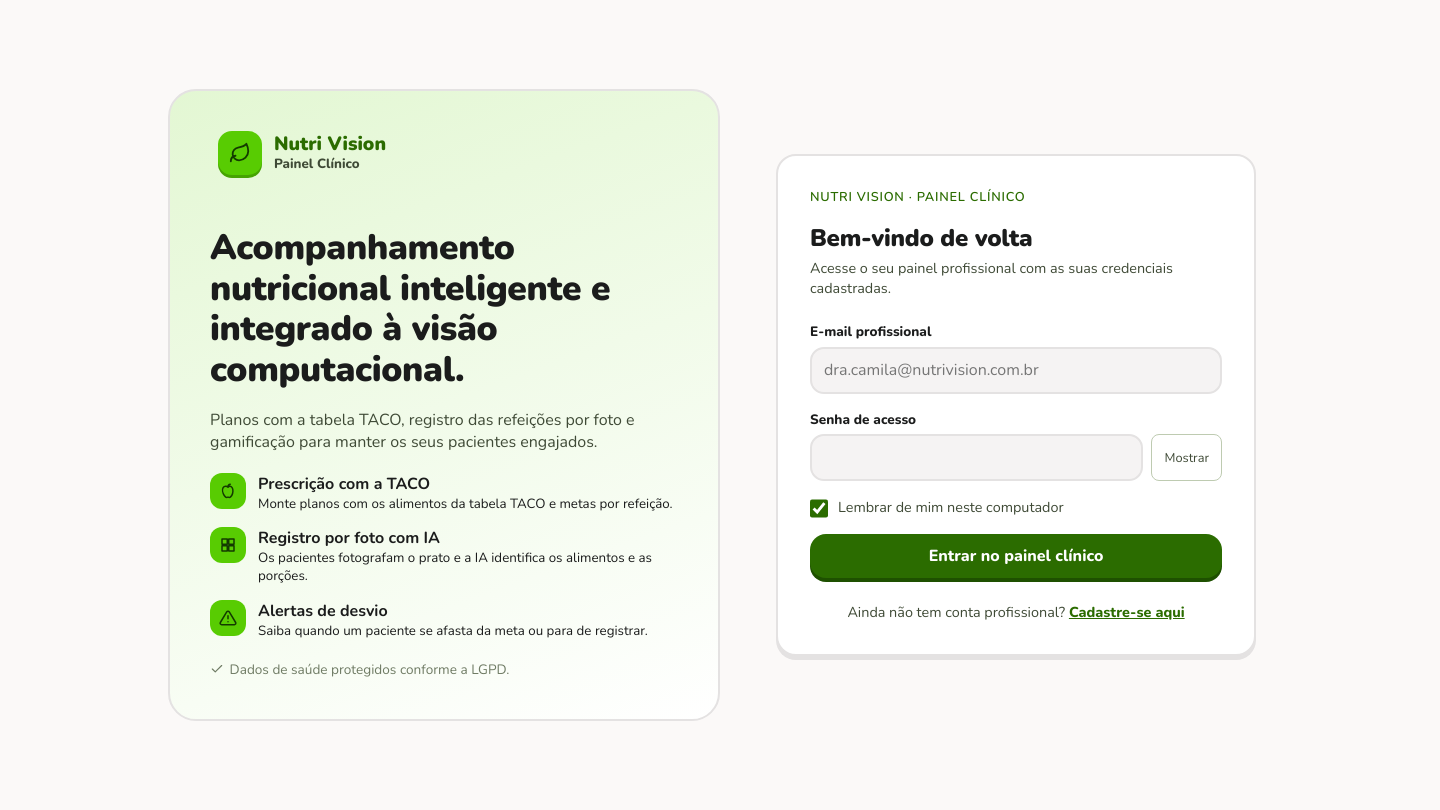
Test: App › Sair volta ao login e apaga o token
Type "ana@exemplo.com" into the field labelled "E-mail profissional" at coordinates (1016, 370), box [810,347,1222,394]
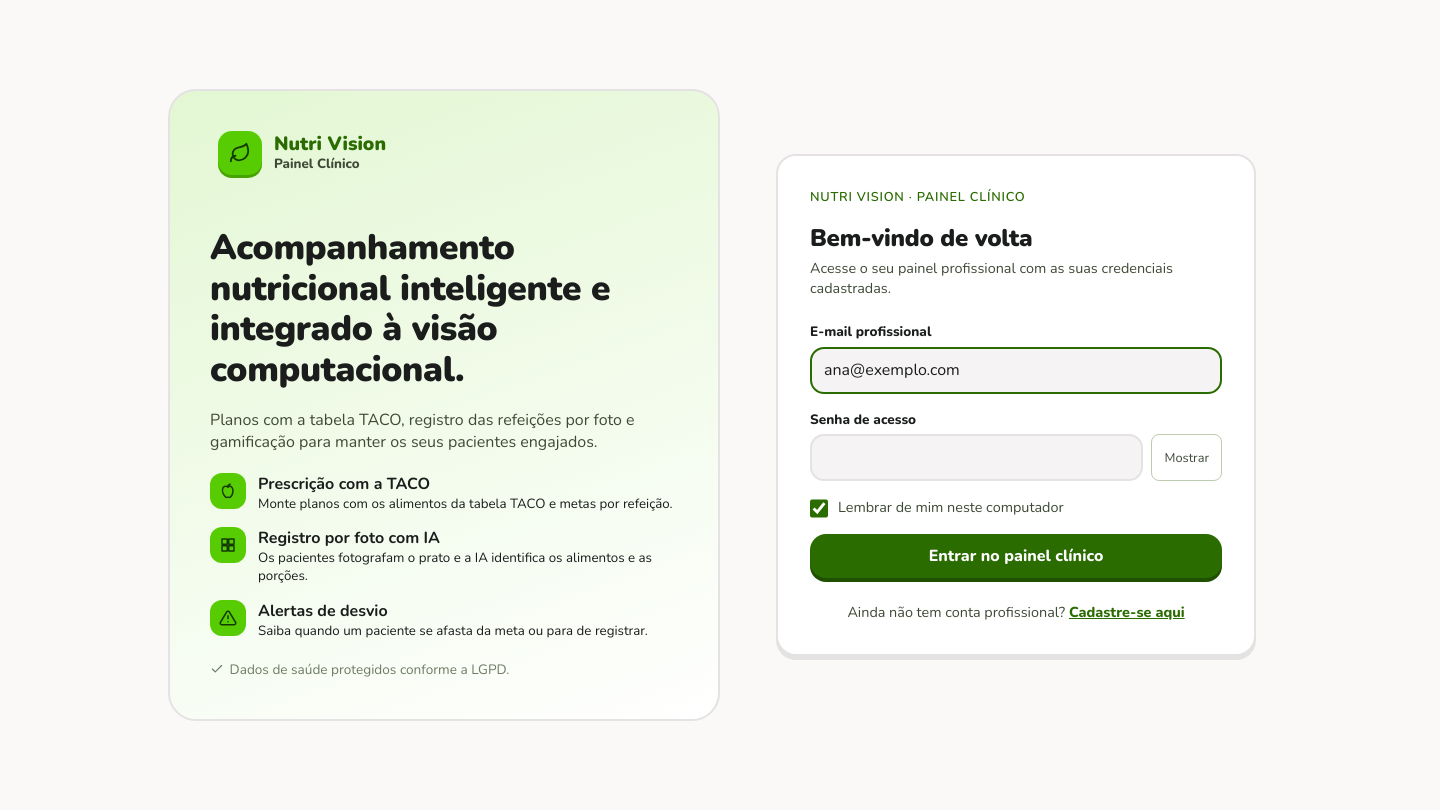
Type "senha-forte-123" into the password field labelled "Senha de acesso" at coordinates (977, 458), box [810,434,1144,481]
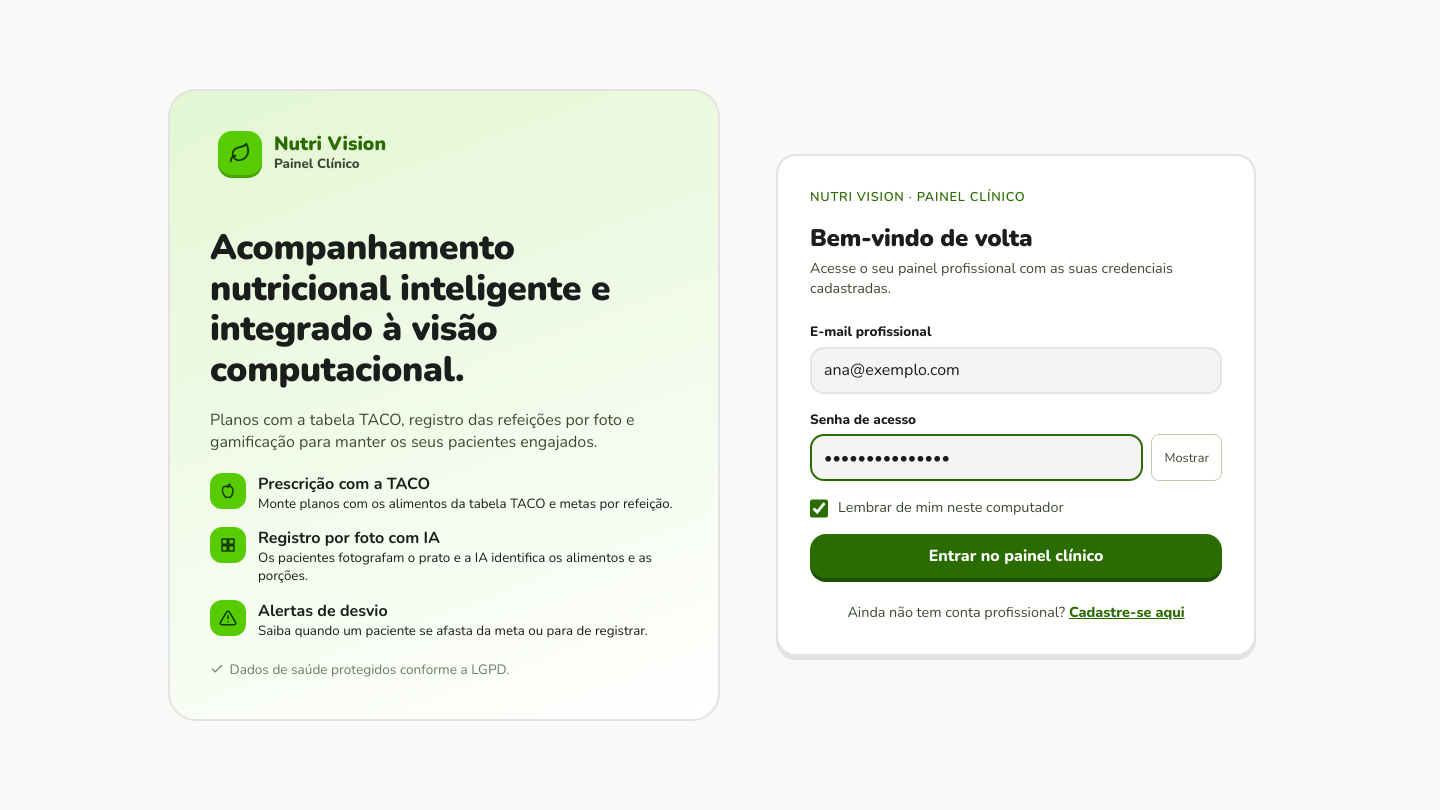
Click the button "Entrar no painel clínico" at coordinates (1016, 556), box [810,534,1222,578]
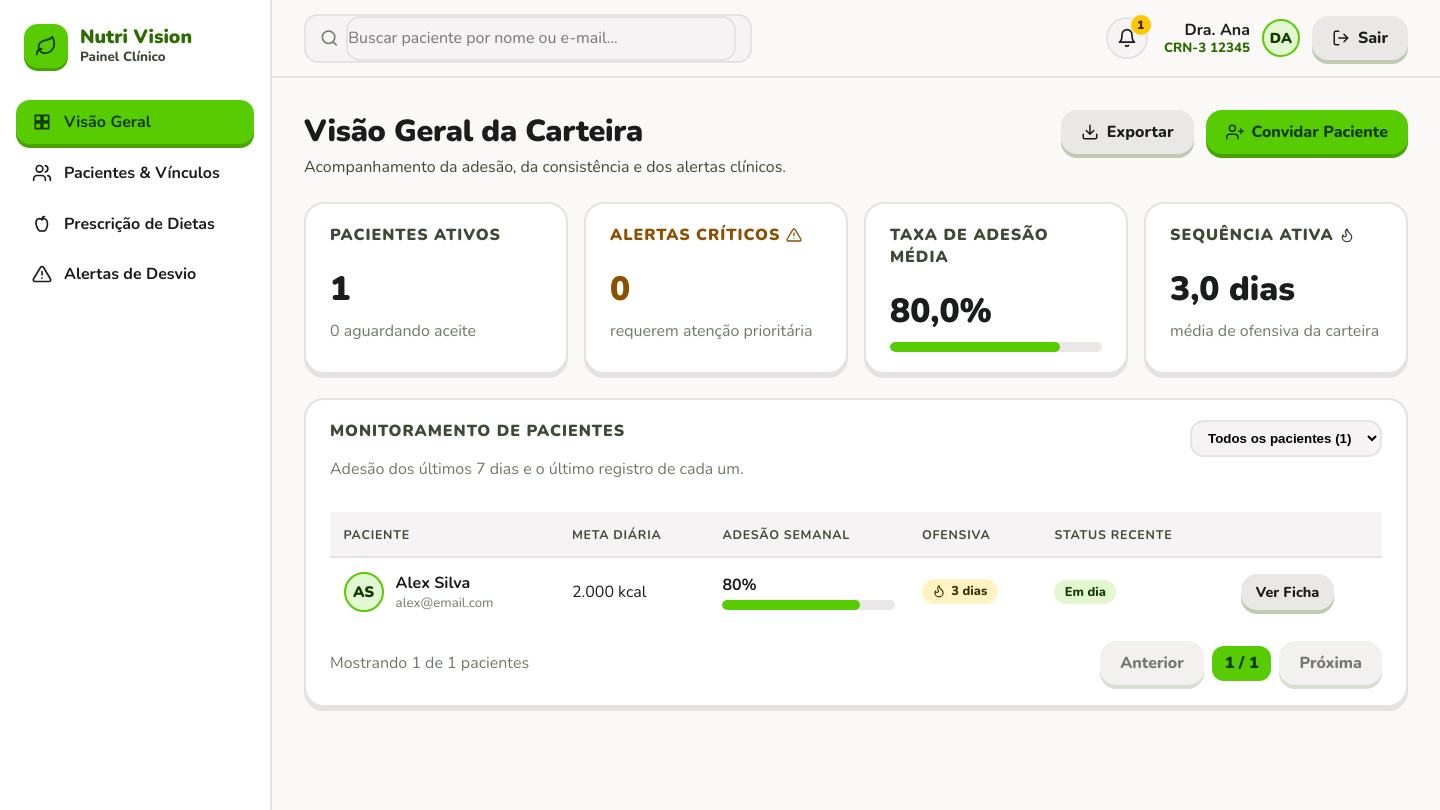
Expected: the text "Dra. Ana" is shown, [1184,19,1250,41]
Click the button "Sair" at coordinates (1360, 38), box [1312,16,1408,60]
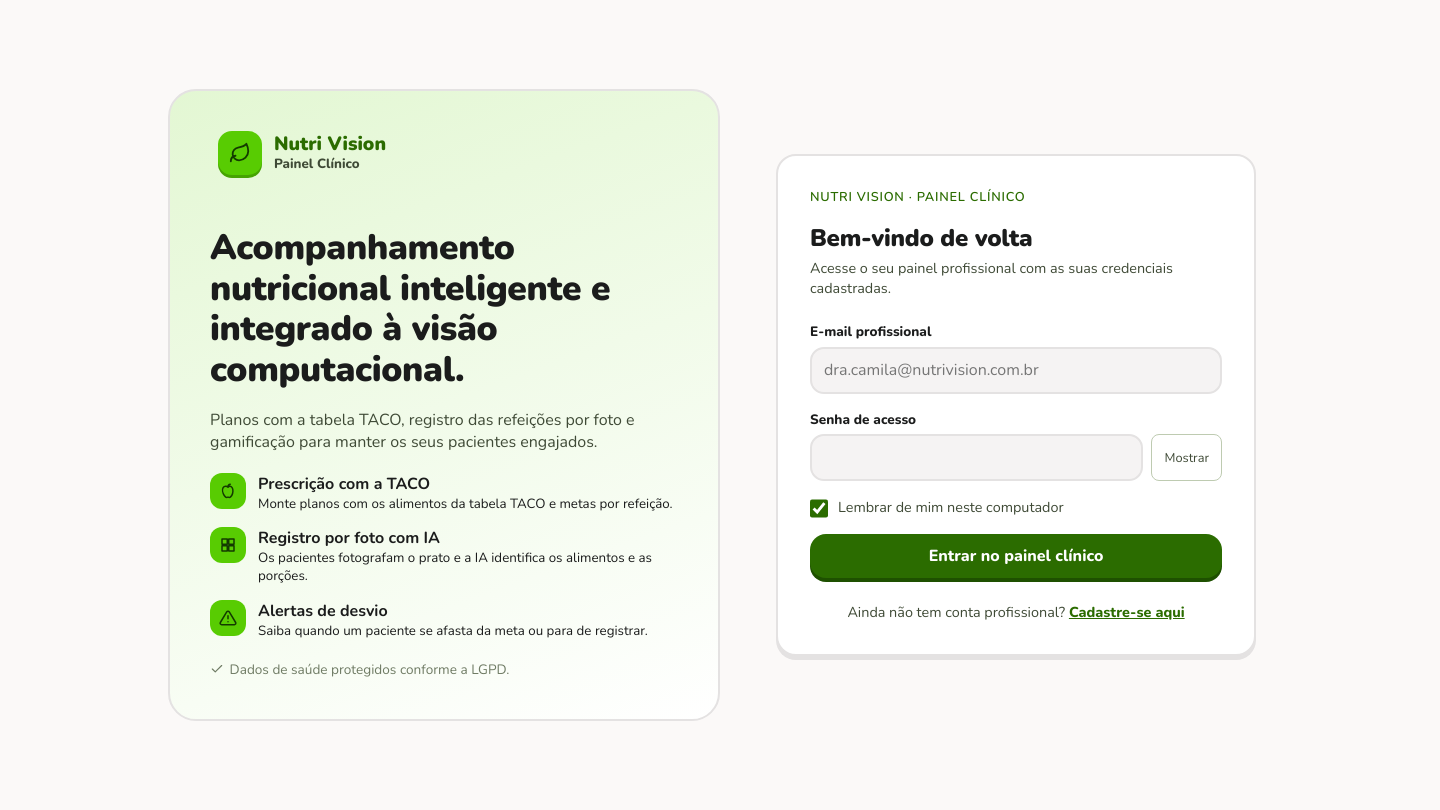
Expected: the heading "Bem-vindo de volta" is shown, [810,222,1032,254]
